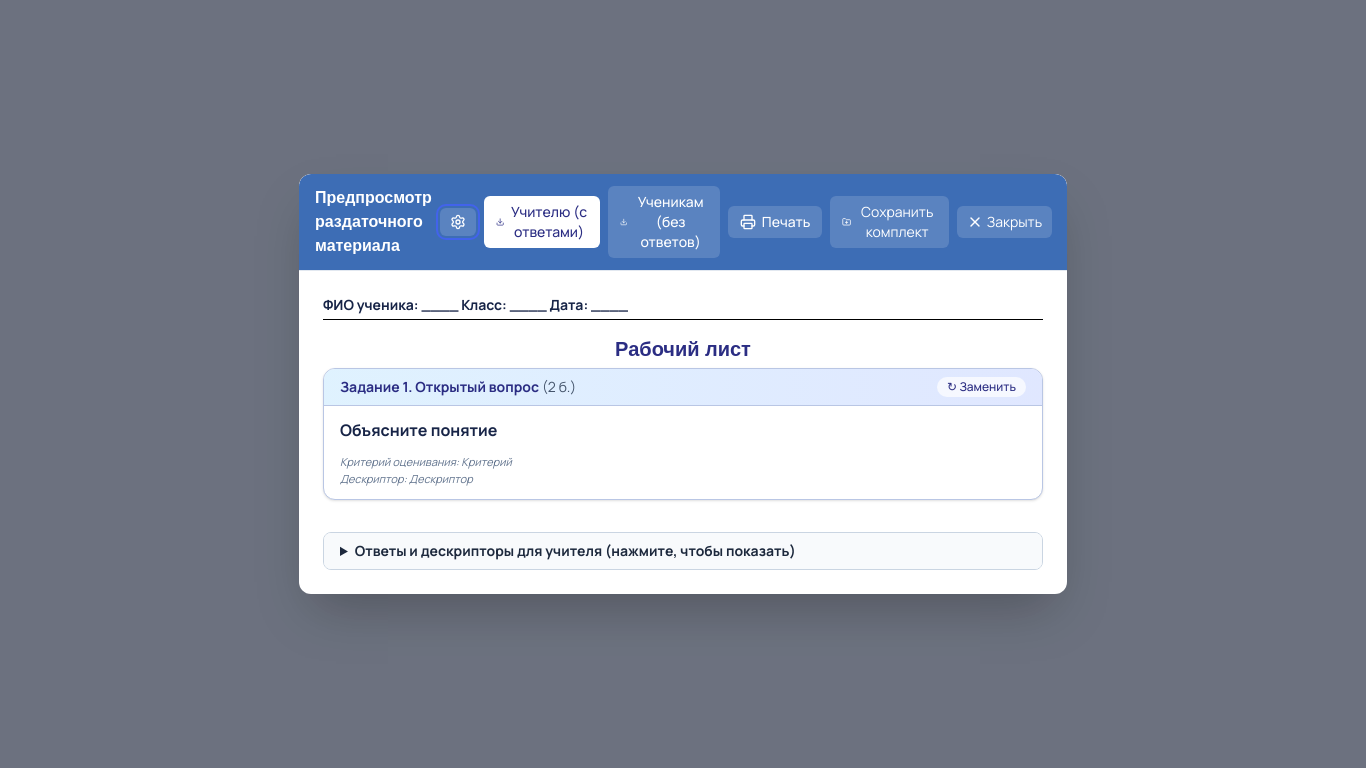
Scenario: настройки предпросмотра › по умолчанию виден размер 14px
Click the button titled "Настройки". click: click(458, 222)
box: [440,208,476,236]
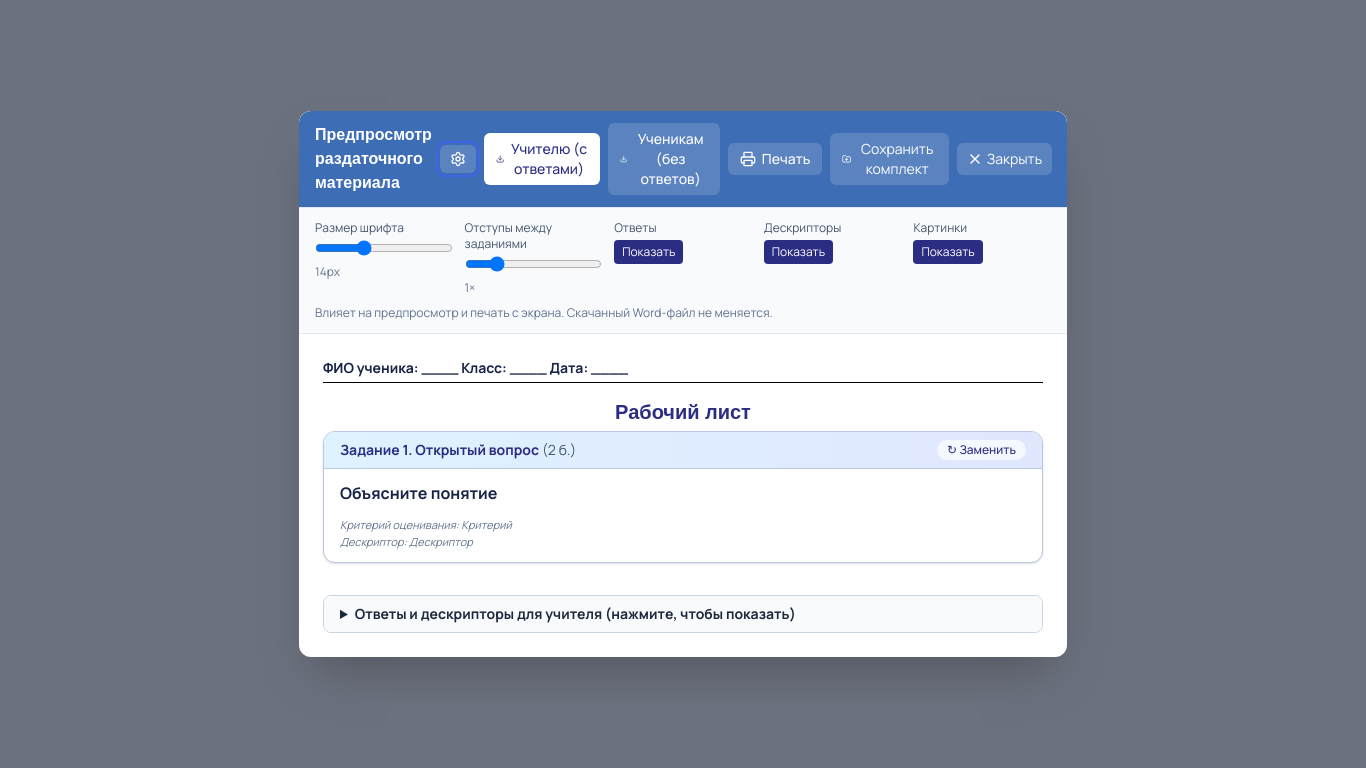
Check: the slider labelled "Размер шрифта" holds "14", box [315,240,453,256]
